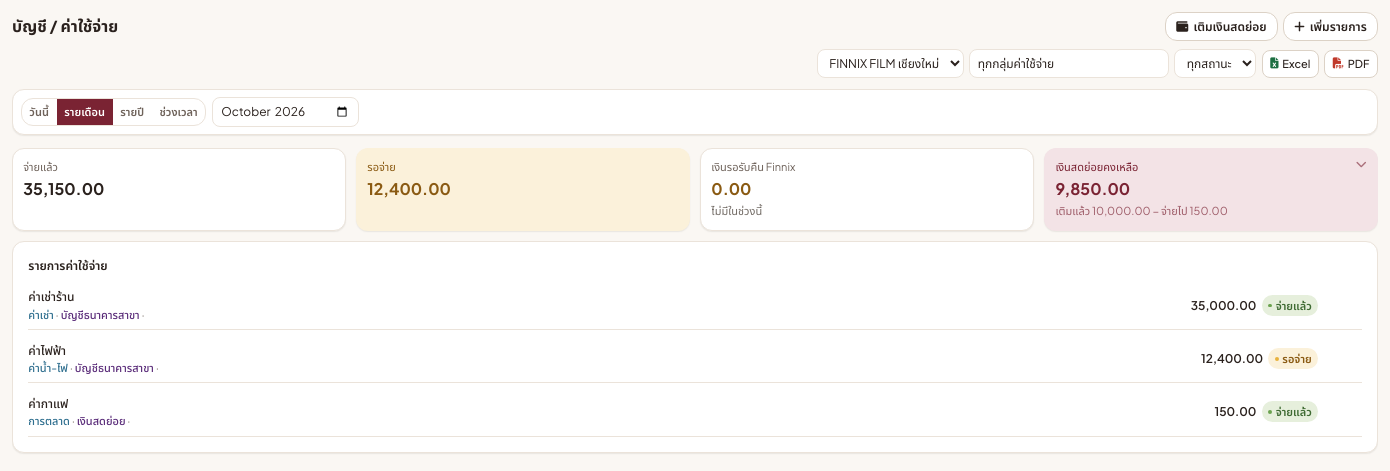
AccountingModule — กรองตามกลุ่มค่าใช้จ่าย › filters the expenses to the group chosen
Type "ตลาด" into the dropdown named "กรองตามกลุ่มค่าใช้จ่าย". click: (1069, 64)
box: [969,49,1169,78]
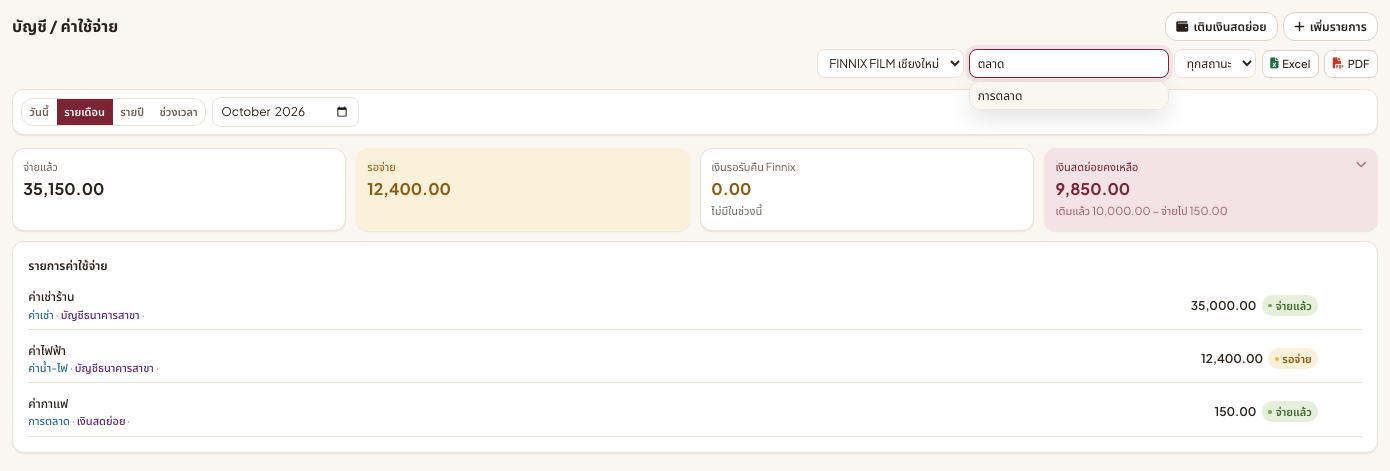
Click the option "การตลาด". click: (1069, 96)
box: [970,82,1168,109]
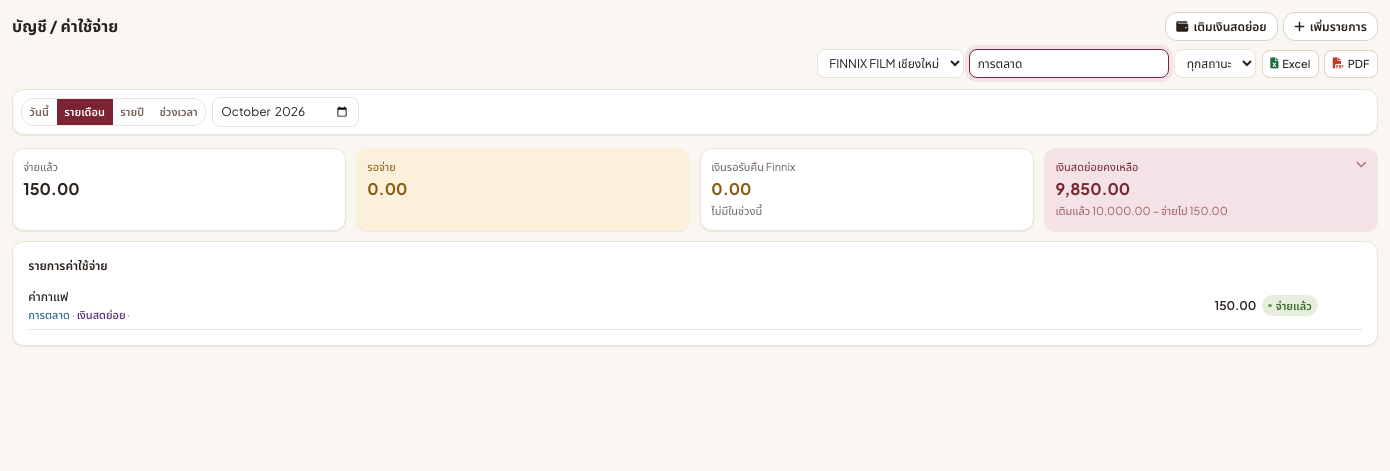
Expected: the text "ค่ากาแฟ" is shown, [28,289,68,304]
Expected: the text "ค่าเช่าร้าน" is gone
